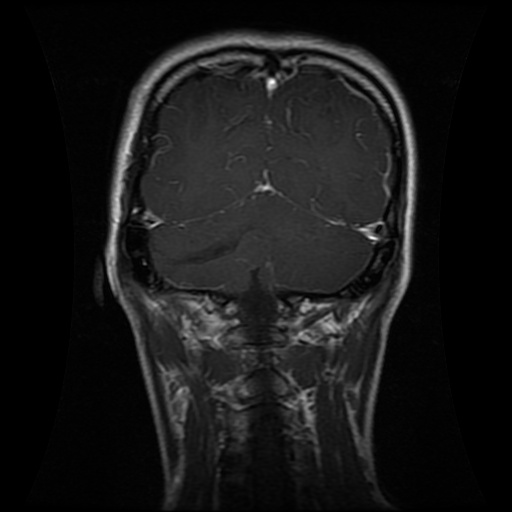glioma: (178, 227, 250, 266)
